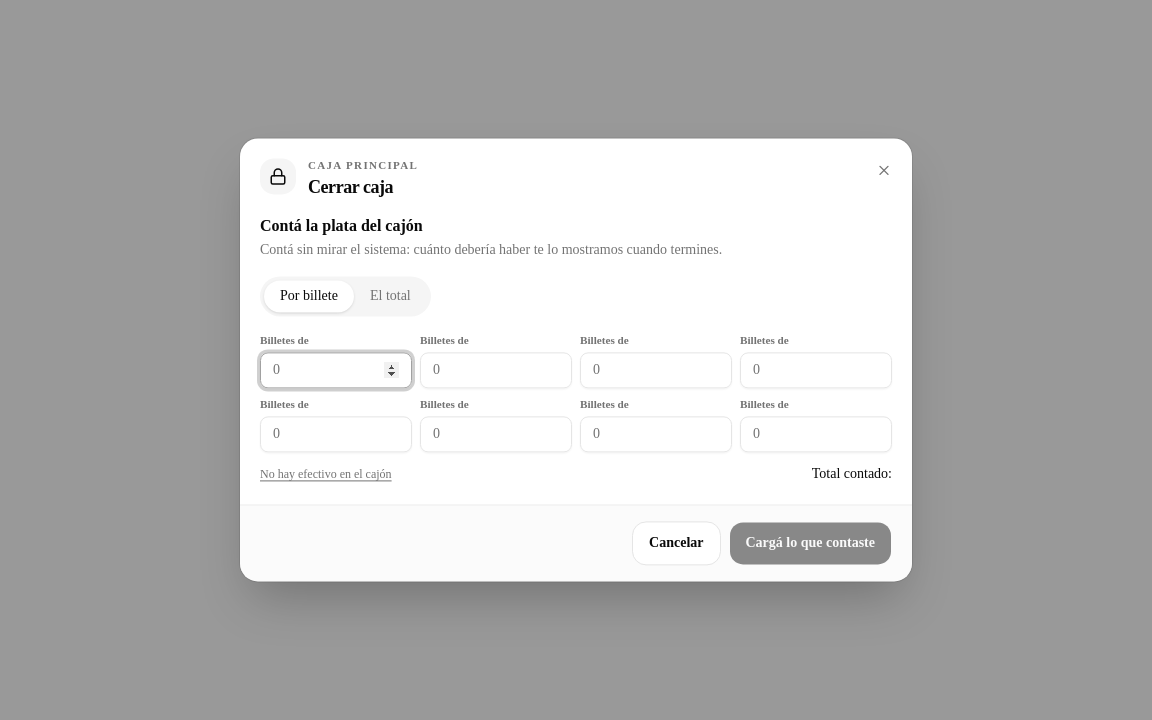
Test: CerrarCajaModal · conteo ciego (spec 209) › anuncia lo que el cierre va a barrer antes de apretar
Click the button "El total" at (390, 297), box x1=354 y1=281 x2=427 y2=313
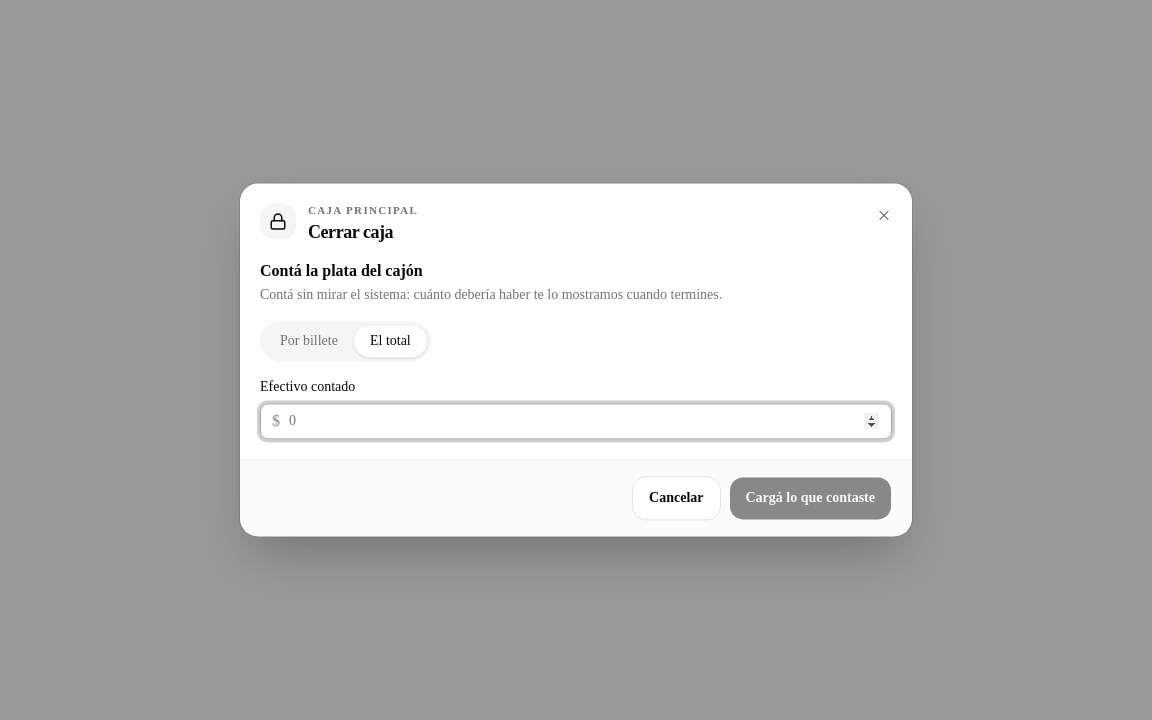
Type "3124" into the number field labelled "Efectivo contado" at (576, 422), box x1=260 y1=404 x2=892 y2=440
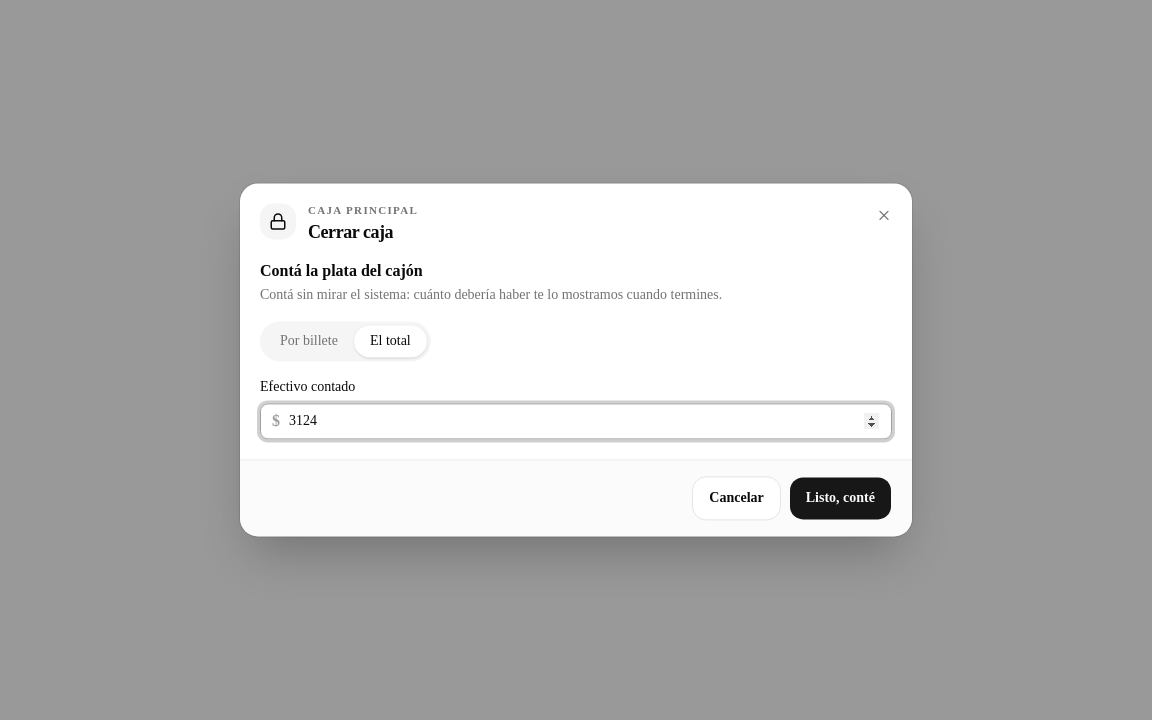
Click the button "Listo, conté" at (840, 499), box x1=789 y1=477 x2=892 y2=521
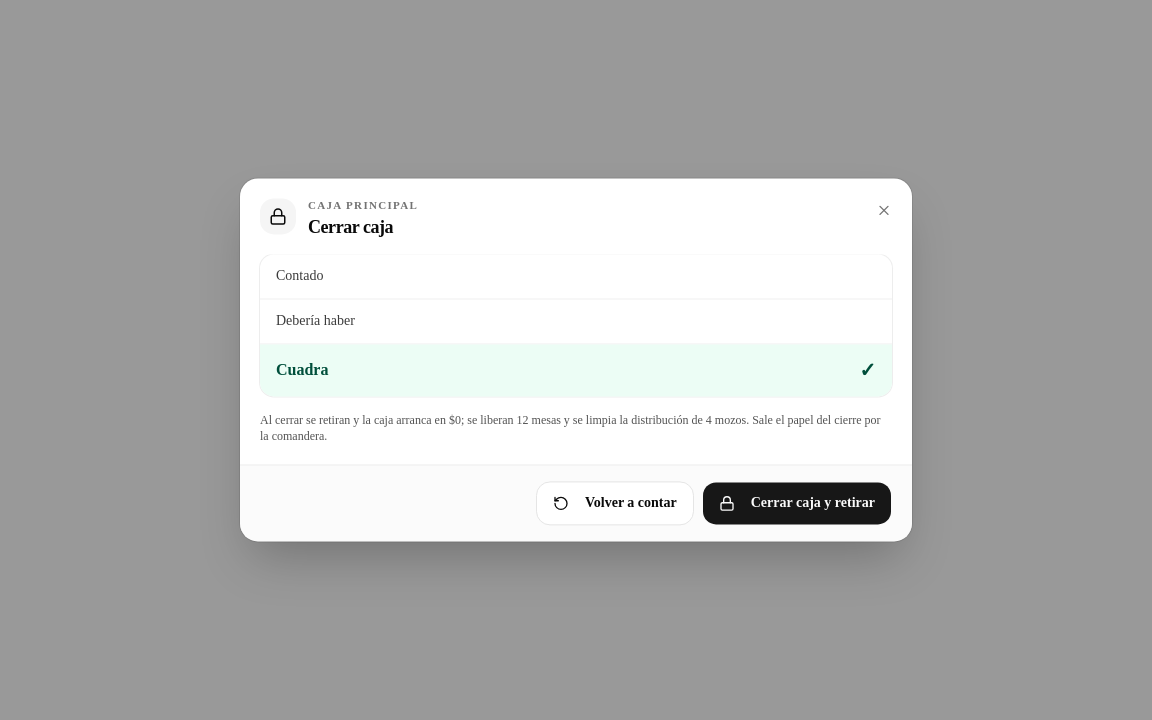
Check: the text "Debería haber" is shown, box x1=276 y1=312 x2=355 y2=332
Check: the text "se liberan 12 mesas y se limpia la distribución de 4 mozos" is shown, box x1=467 y1=414 x2=746 y2=428
